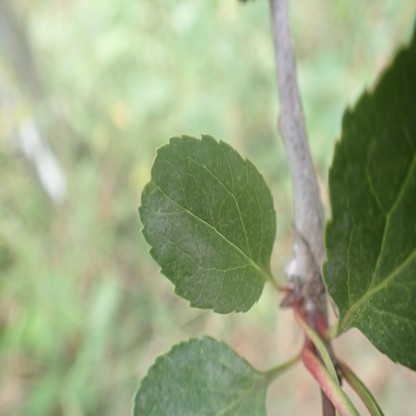powdery_mildew: (325, 18, 416, 373), (137, 133, 277, 315), (133, 336, 267, 416)
